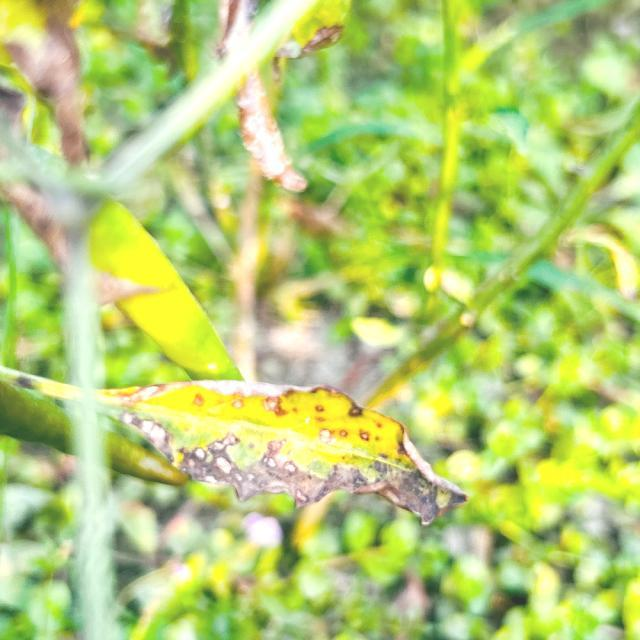Bercak Daun Serkospora: (85, 369, 468, 532)
